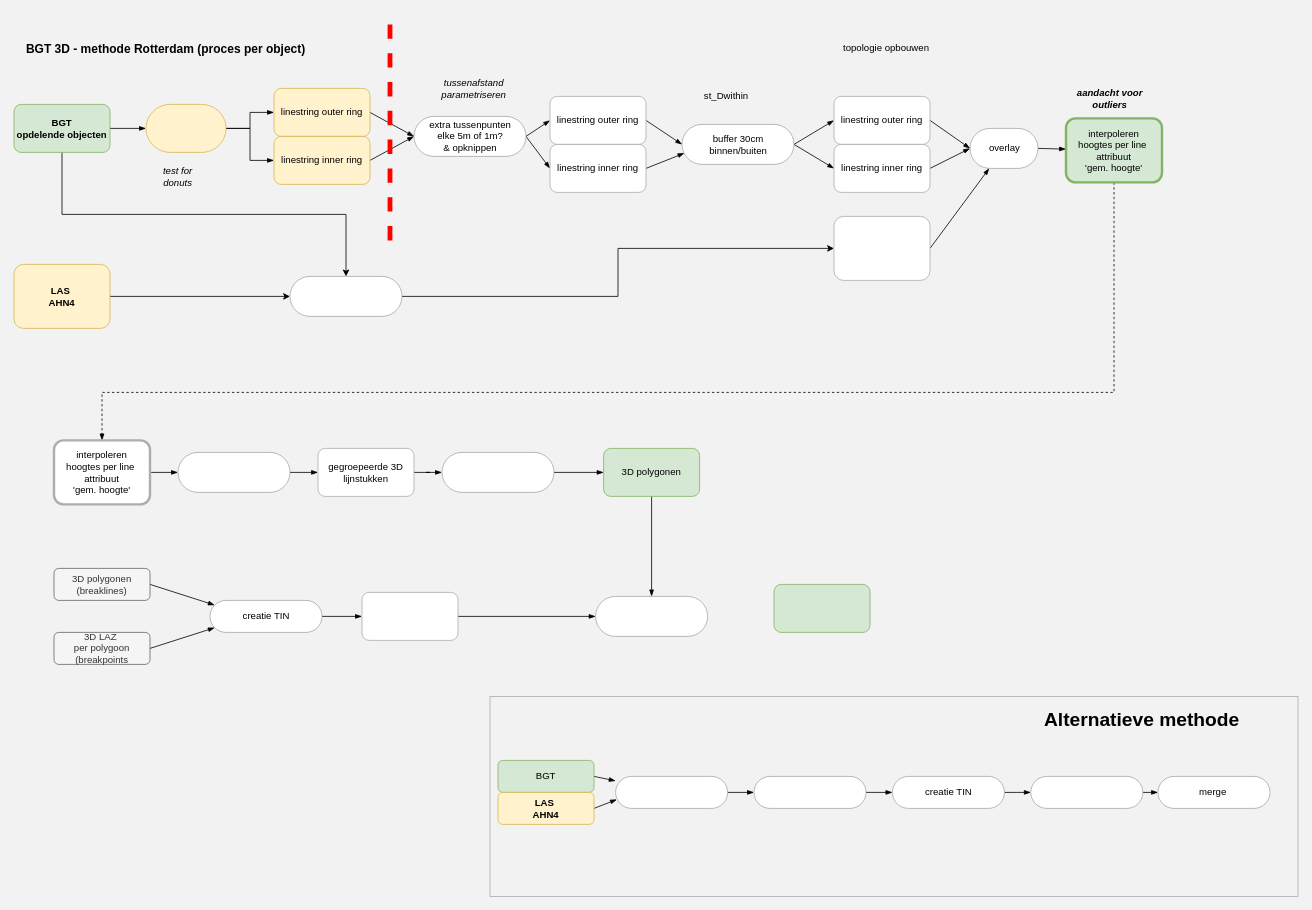
Image size: 1312x910. Some labels were removed from this diagram. The shapes that lost their labels are listed below. From the top down, each one's centre as x and y in pixels, then its label:
point (185, 128): transform polygon to linestrings
point (881, 248): LAS AHN4 per polygoon
point (345, 296): clip las op inside per vlakobject
point (233, 472): samenvoegen lijnen
point (497, 472): transformatie naar 3D polygonen
point (409, 616): tin per polygoon
point (651, 616): samevoegen TIN & polygoon
point (821, 608): 3D surface
point (671, 792): extractie linestrings
point (809, 792): interpolatie hoogte
point (1086, 792): classificatie objecten
